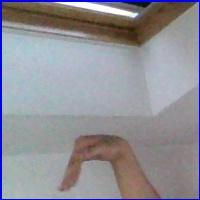del: (50, 129, 144, 196)
